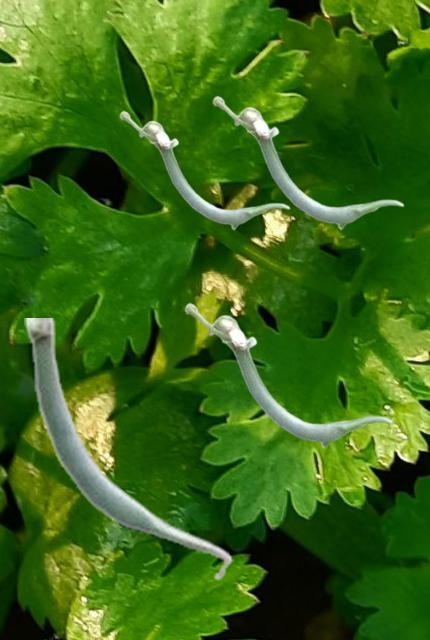french_bean: (24, 318, 232, 581), (184, 302, 392, 448), (212, 95, 403, 229), (119, 110, 289, 229)
